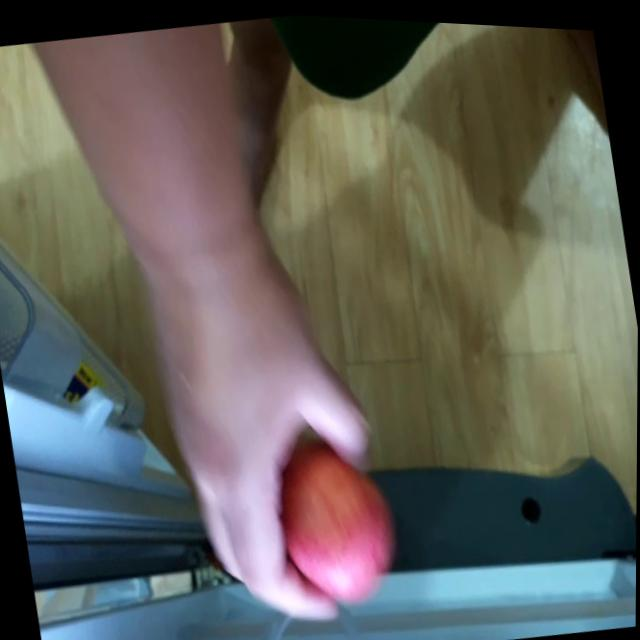apple: (272, 427, 407, 610)
